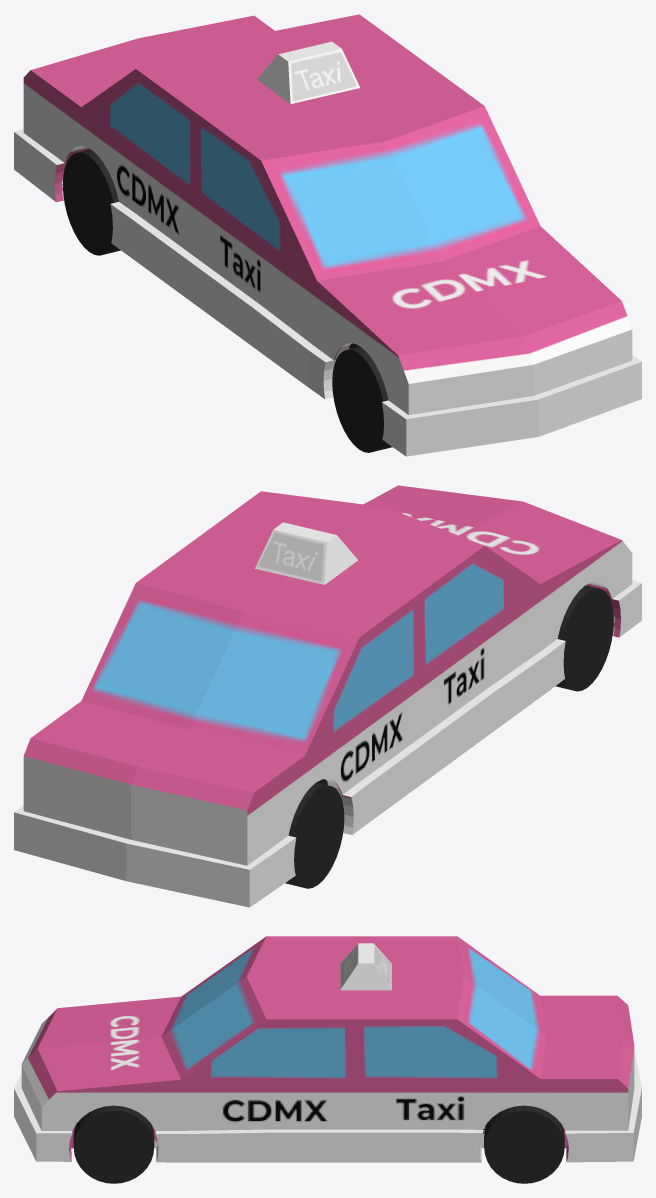
Rendered from Tsuru.obj.
3 views of the same model, one above another, from view 1: azimuth 30°, elevation 25°; view 2: azimuth 150°, elevation 25°; view 3: azimuth 270°, elevation 25° (orthographic). The views are drawn at different scales.
Visible parts, largest first — view 1: TsuruBody, TsuruWheels, TsuruUp; view 2: TsuruBody, TsuruWheels, TsuruUp; view 3: TsuruBody, TsuruWheels, TsuruUp.
Part boxes in pixels (<box>): TsuruBody: <box>14,14,641,456</box>; TsuruWheels: <box>62,149,392,452</box>; TsuruUp: <box>257,41,360,103</box>; TsuruBody: <box>14,485,641,907</box>; TsuruWheels: <box>285,585,613,888</box>; TsuruUp: <box>255,522,357,584</box>; TsuruBody: <box>14,936,641,1162</box>; TsuruWheels: <box>73,1105,564,1183</box>; TsuruUp: <box>340,943,391,990</box>.
Bounding box in the file's own units: 2.4 × 2.37 × 7.13.
